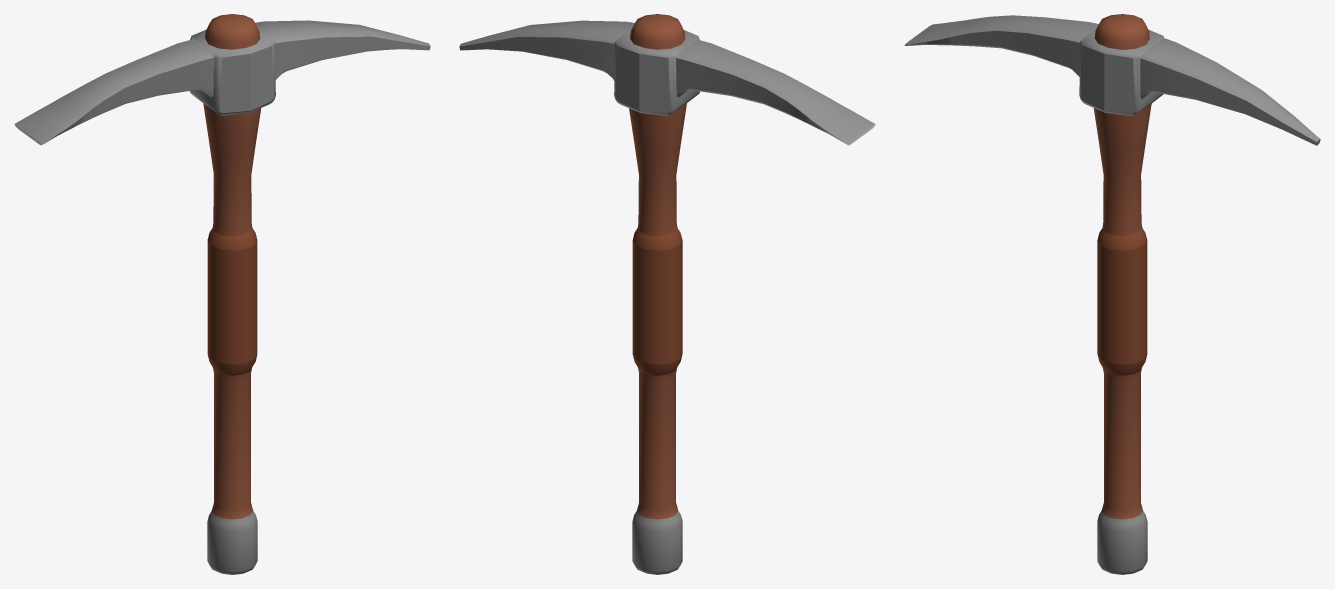
Rendered from Pickaxe.fbx.
3 renders of one model, left to right at view 1: azimuth 30°, elevation 25°; view 2: azimuth 150°, elevation 25°; view 3: azimuth 330°, elevation 25°, orthographic.
Visible parts, largest first — view 1: Pickaxe; view 2: Pickaxe; view 3: Pickaxe.
Boxes of the visible parts, left/top/right/bottom form: Pickaxe: left=14, top=14, right=430, bottom=574; Pickaxe: left=459, top=14, right=875, bottom=574; Pickaxe: left=904, top=14, right=1320, bottom=574.
Size of the model in its own units: 72.76 by 94.8 by 11.47.
